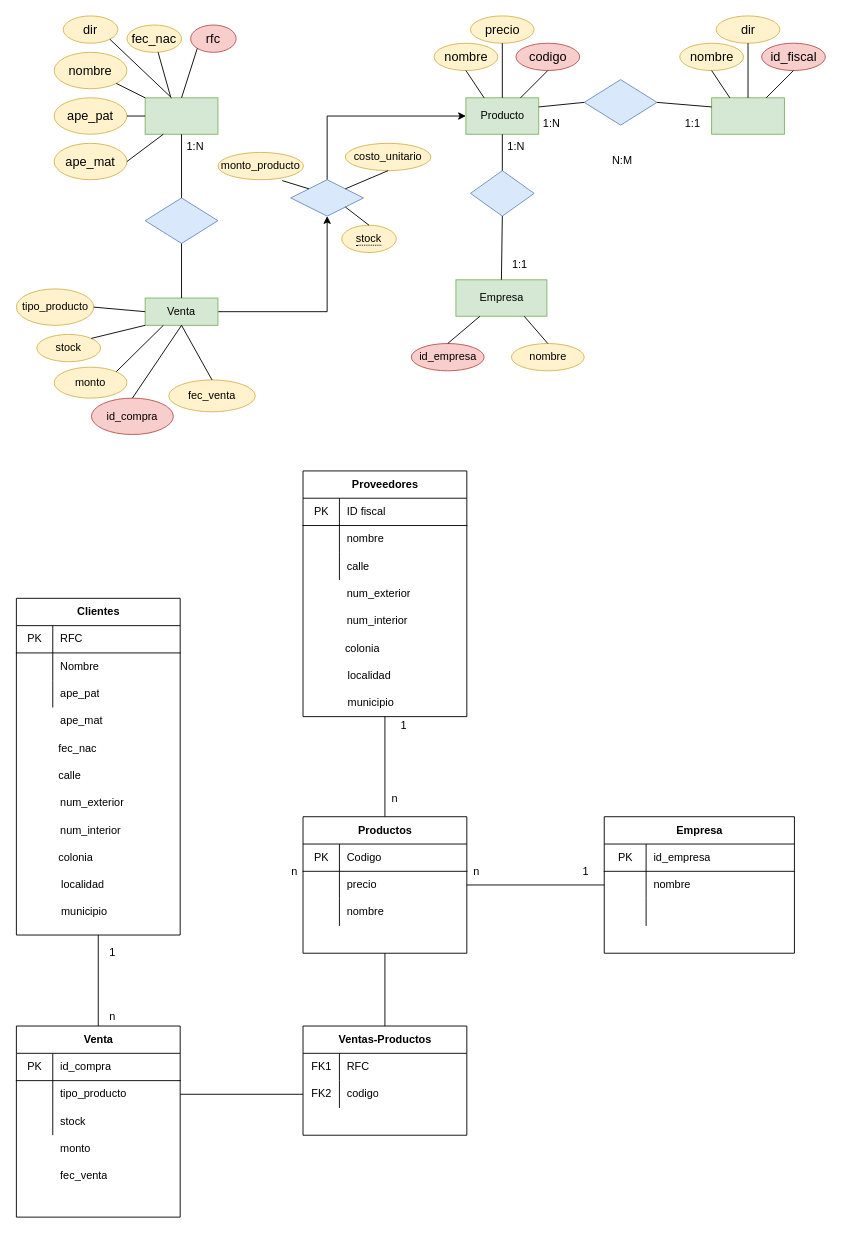
Image size: 841x1233. Some labels were removed from this diagram. Each missing label, with the centre of its shape:
Cliente: the point at 181,115
incluye: the point at 327,197
Proveedor: the point at 747,115
solicita: the point at 181,220
suministra: the point at 620,102
vende: the point at 502,193
